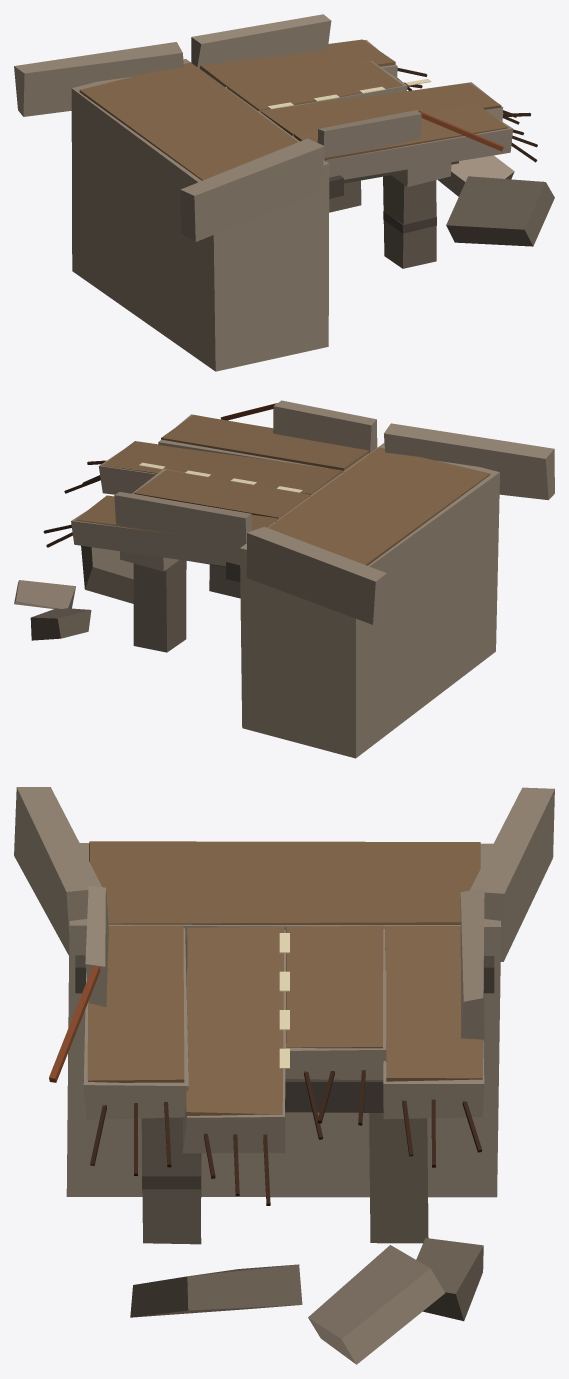
Rendered from bridge_broken.glb.
3 renders of one model, top to bottom at view 1: azimuth 30°, elevation 25°; view 2: azimuth 150°, elevation 25°; view 3: azimuth 270°, elevation 25°, orthographic. The views are drawn at different scales.
Visible parts, largest first — view 1: bridge_broken; view 2: bridge_broken; view 3: bridge_broken.
Boxes of the visible parts, box(x1,y1,x2,y2) form: bridge_broken: box(14, 14, 554, 371); bridge_broken: box(14, 400, 554, 758); bridge_broken: box(14, 787, 554, 1364).
Bounding box in the file's own units: 13.2 × 6.17 × 9.55.
